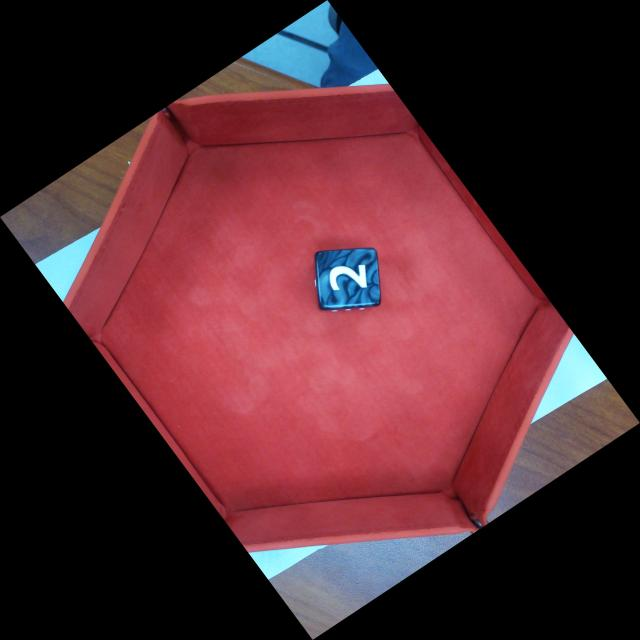dice: (314, 247, 383, 311)
